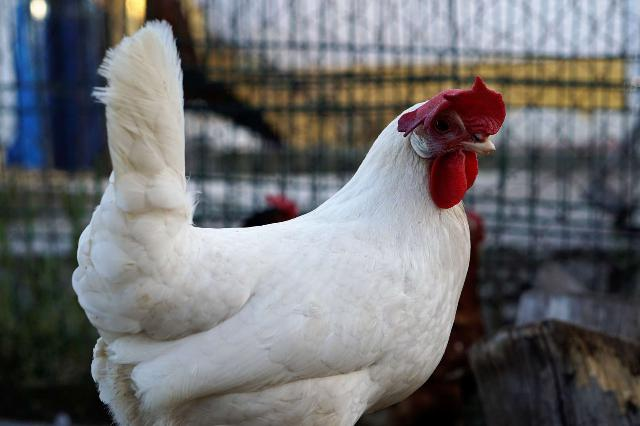Chicken: (70, 20, 506, 426)
